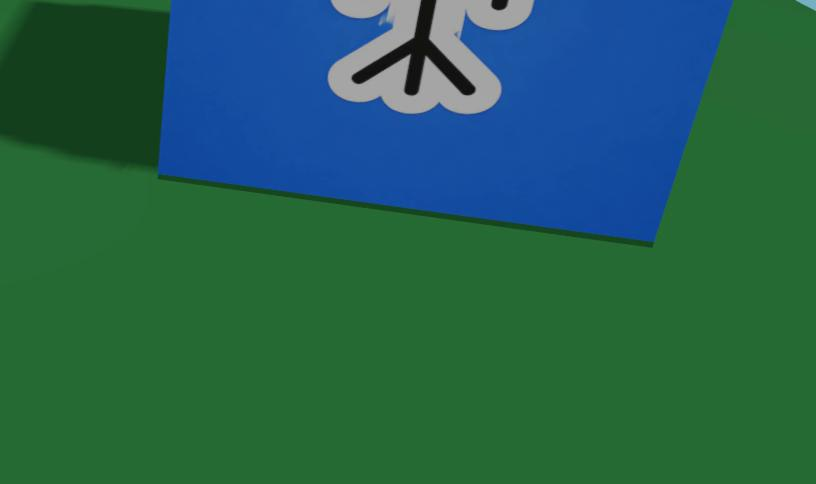KFS_REAL: (158, 0, 734, 241), (328, 0, 534, 114)
